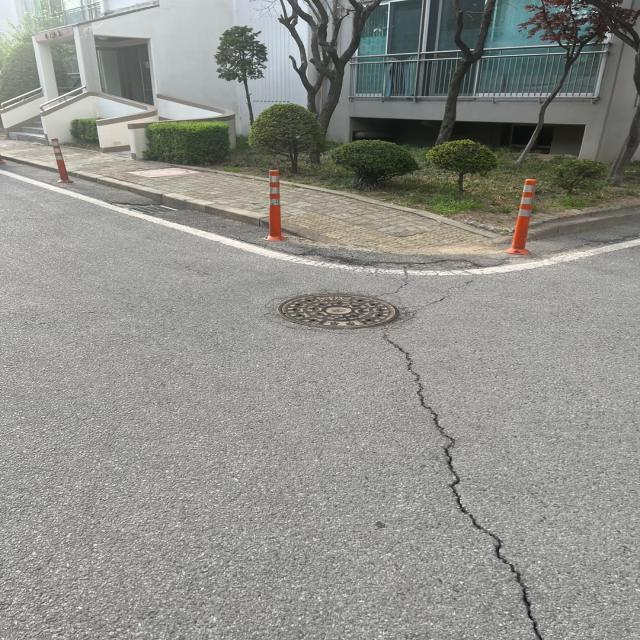Sewer Cover: (267, 286, 398, 350)
